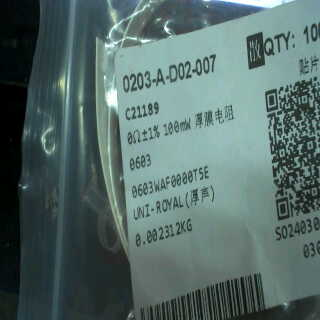0R: (125, 115, 192, 171)
